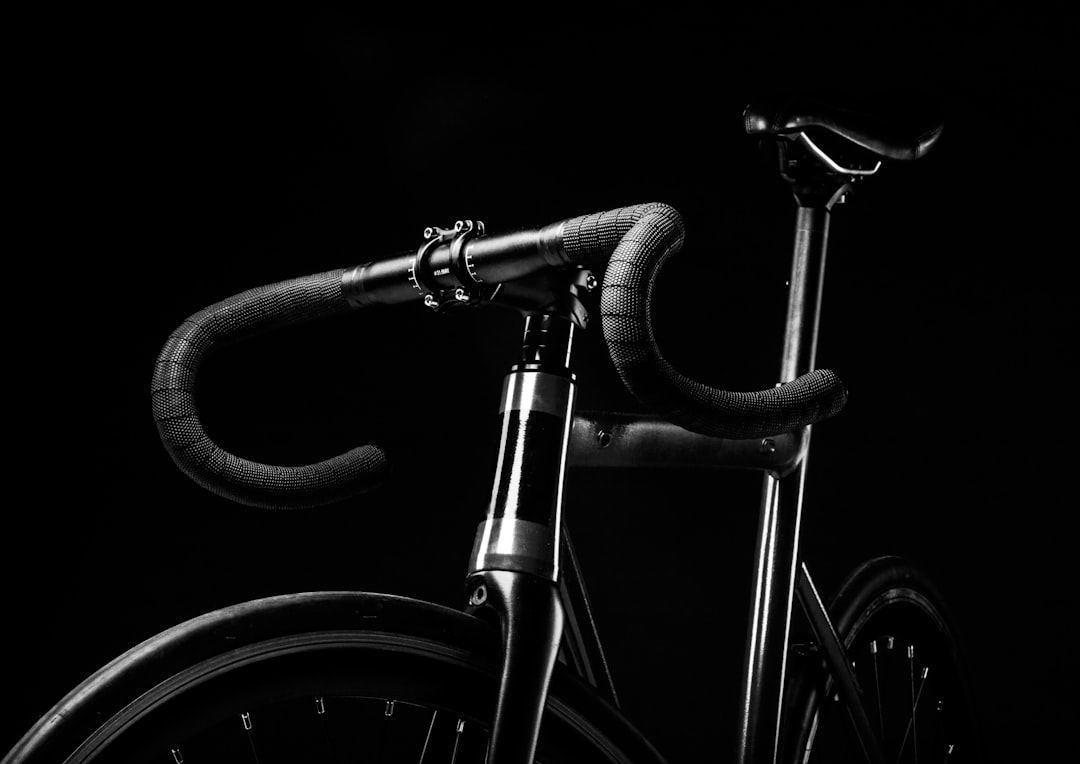bicycle: (0, 109, 971, 764)
